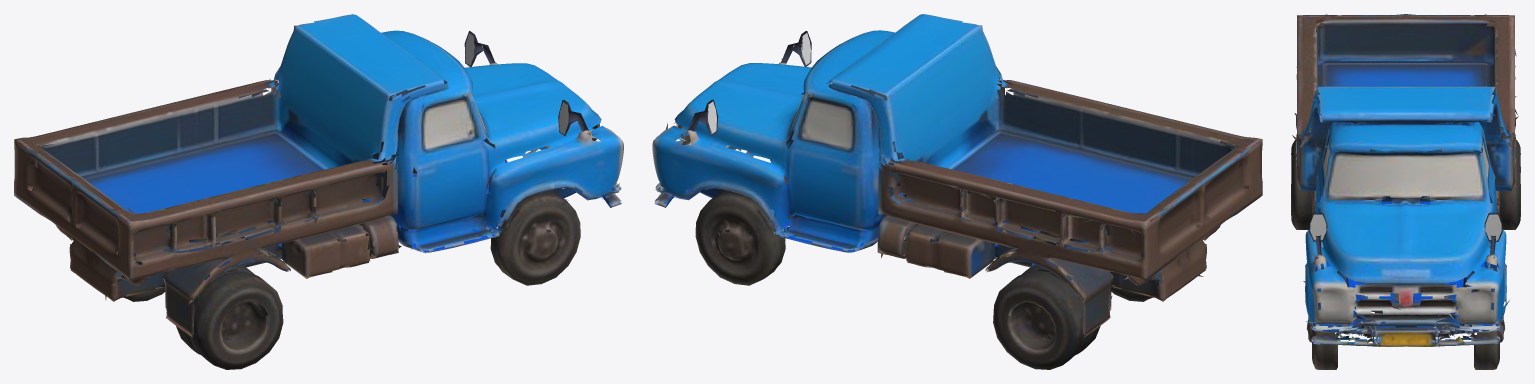
Rendered from v_tipper.glb.
3 views of the same model, side by side, from view 1: azimuth 30°, elevation 25°; view 2: azimuth 150°, elevation 25°; view 3: azimuth 270°, elevation 25° (orthographic). The views are drawn at different scales.
Visible parts, largest first — view 1: v_tipper; view 2: v_tipper; view 3: v_tipper.
Boxes of the visible parts, box(x1,y1,x2,y2) form: v_tipper: box(14, 14, 623, 369); v_tipper: box(652, 14, 1262, 369); v_tipper: box(1291, 14, 1520, 369).
Size of the model in its own units: 6.03 by 2.55 by 2.5.
Materials: 1 (1 with a texture image).
